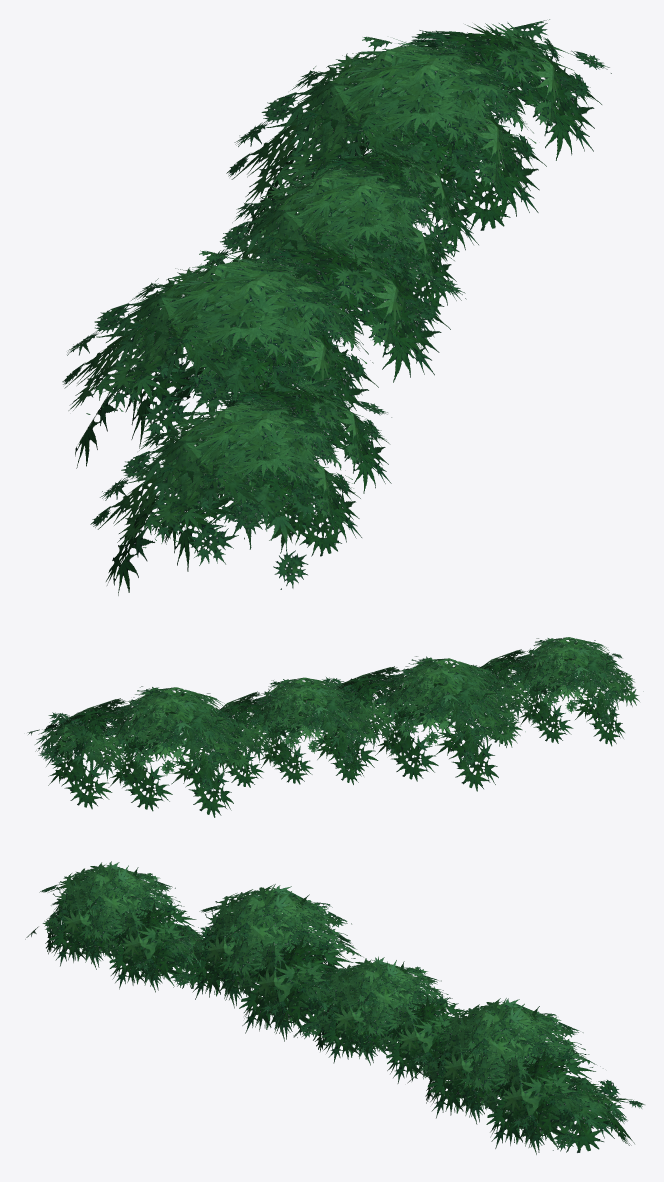
File: Area_13_11.fbx
3 views of the same model, one above another, from view 1: azimuth 30°, elevation 25°; view 2: azimuth 150°, elevation 25°; view 3: azimuth 270°, elevation 25° (orthographic). The views are drawn at different scales.
Visible parts, largest first — view 1: Area_13_11; view 2: Area_13_11; view 3: Area_13_11.
Part boxes in pixels (left/top/right/bottom): Area_13_11: left=62, top=19, right=611, bottom=595; Area_13_11: left=27, top=637, right=643, bottom=817; Area_13_11: left=25, top=861, right=644, bottom=1154.
Size of the model in its own units: 3142 by 785 by 3143.
